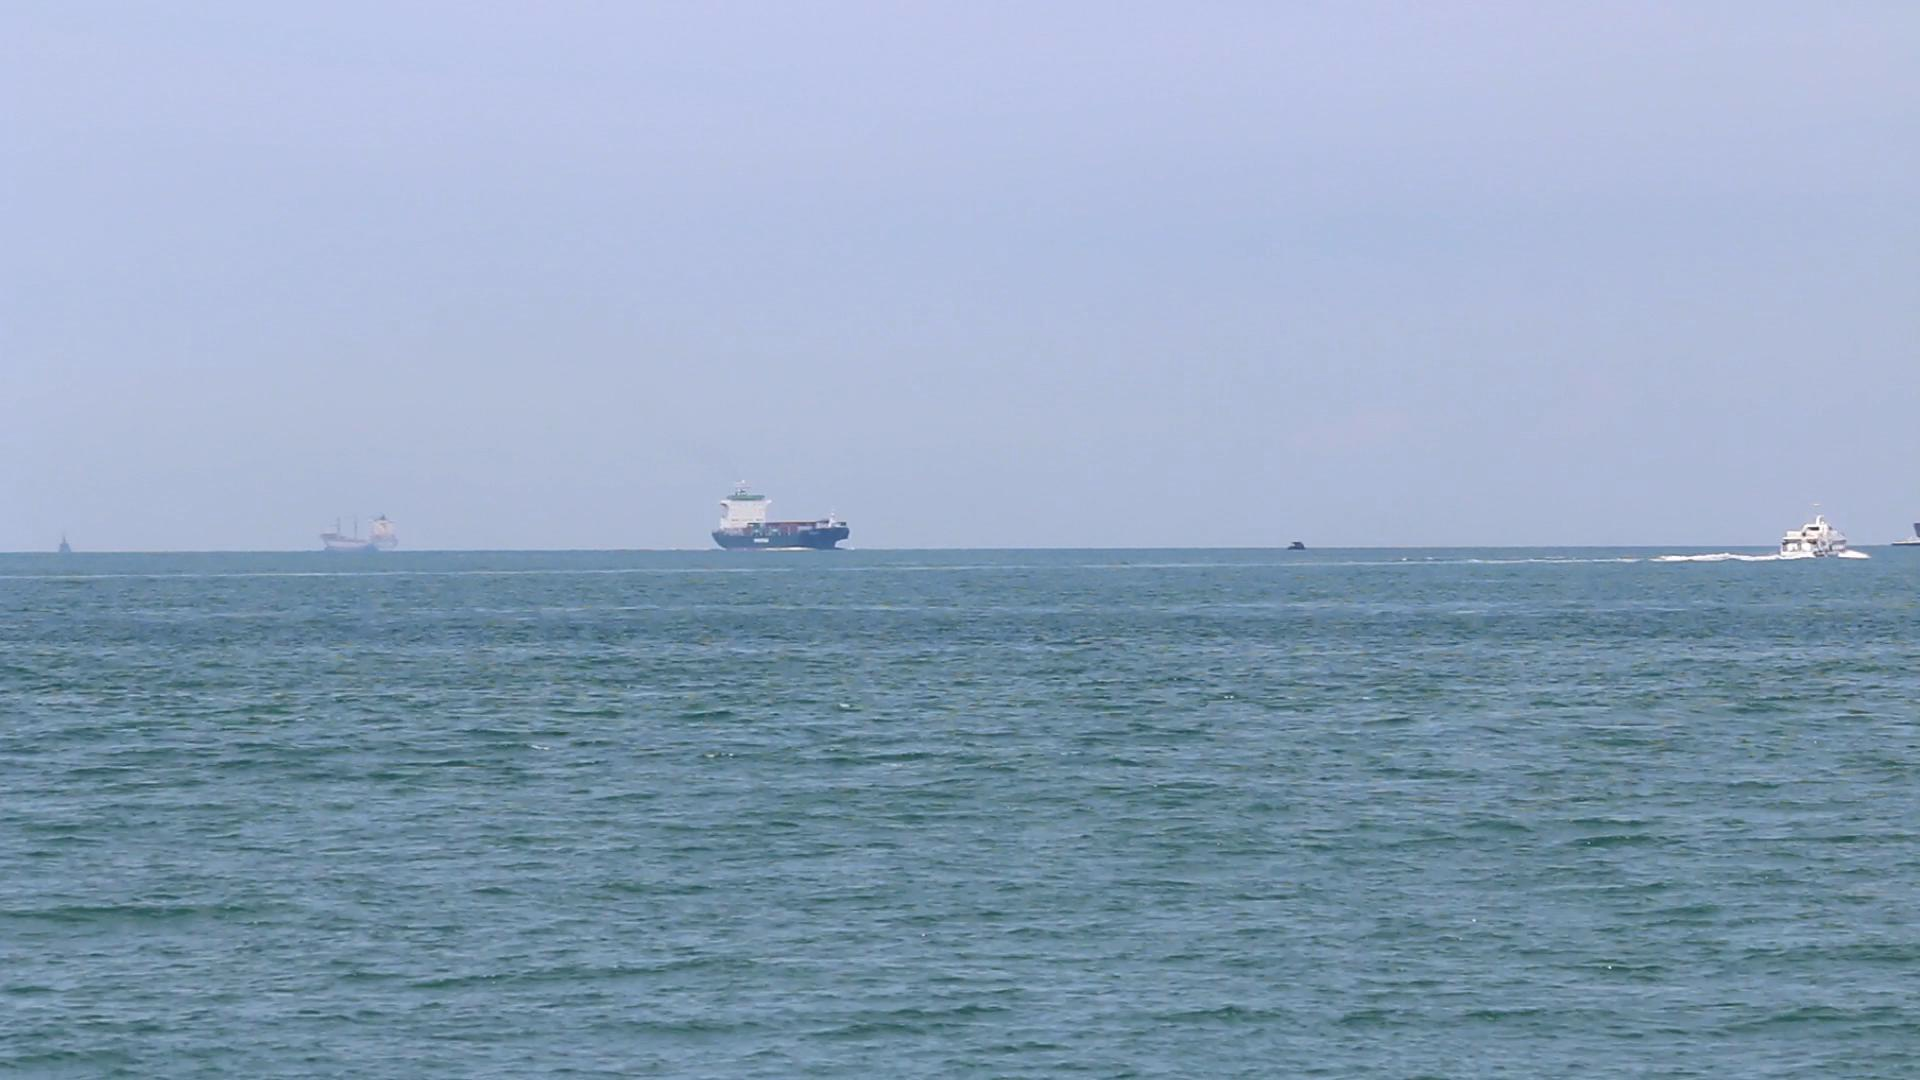Container Ship: (707, 469, 857, 559), (314, 498, 407, 555), (1884, 529, 1920, 553)
